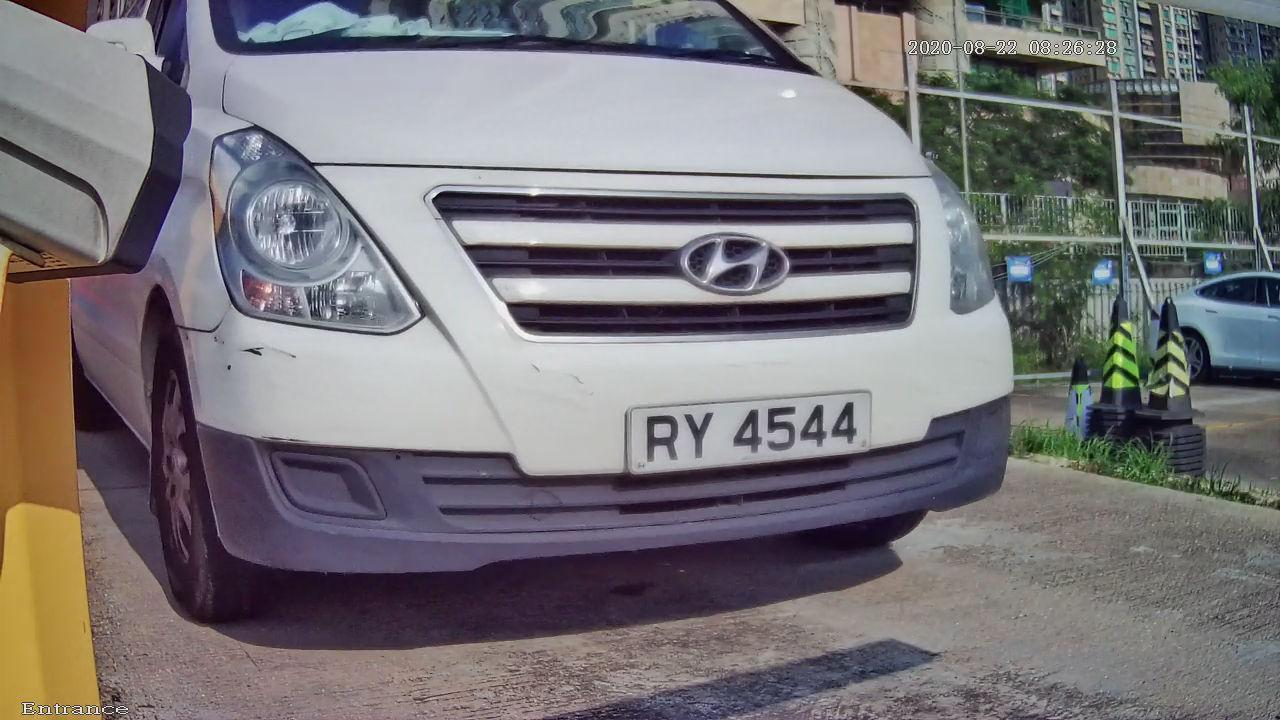Car: (41, 17, 1075, 621)
License Plate: (601, 389, 892, 473)
